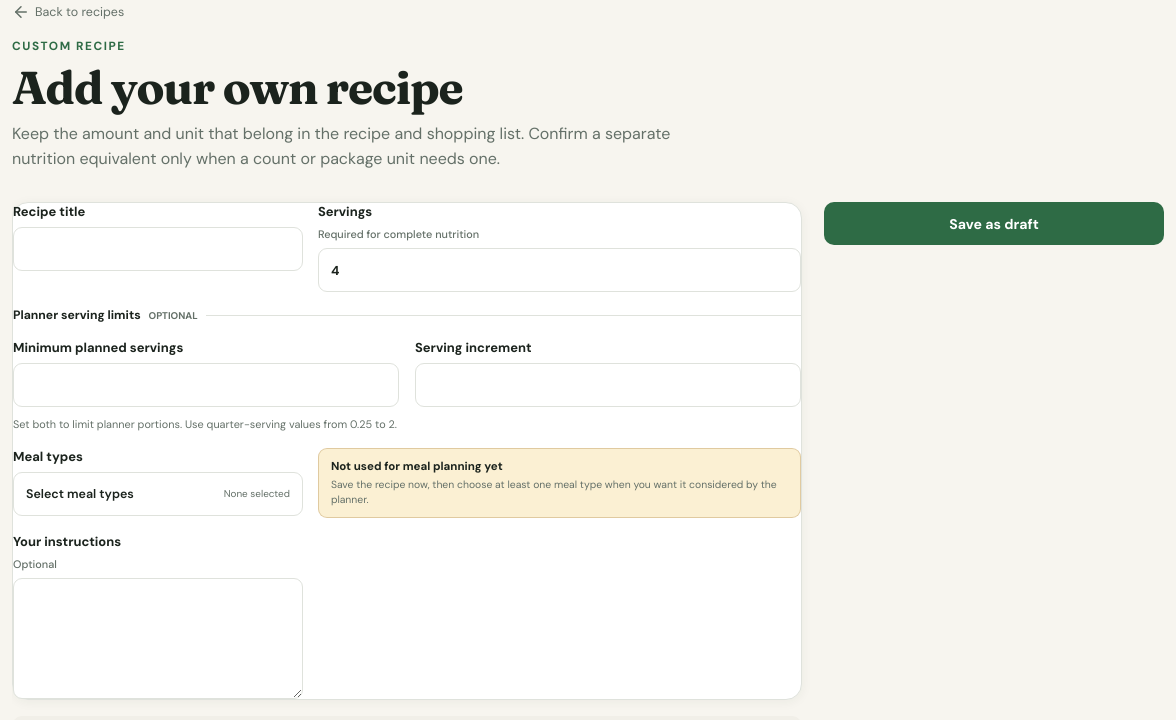
it: CustomRecipePage › saves an incomplete new recipe as a draft without pretending it is complete
The width and height of the screenshot is (1176, 720).
Type "Unfinished soup" into the field labelled "Recipe title" at {"x": 158, "y": 249}, box [13,227,303,271]
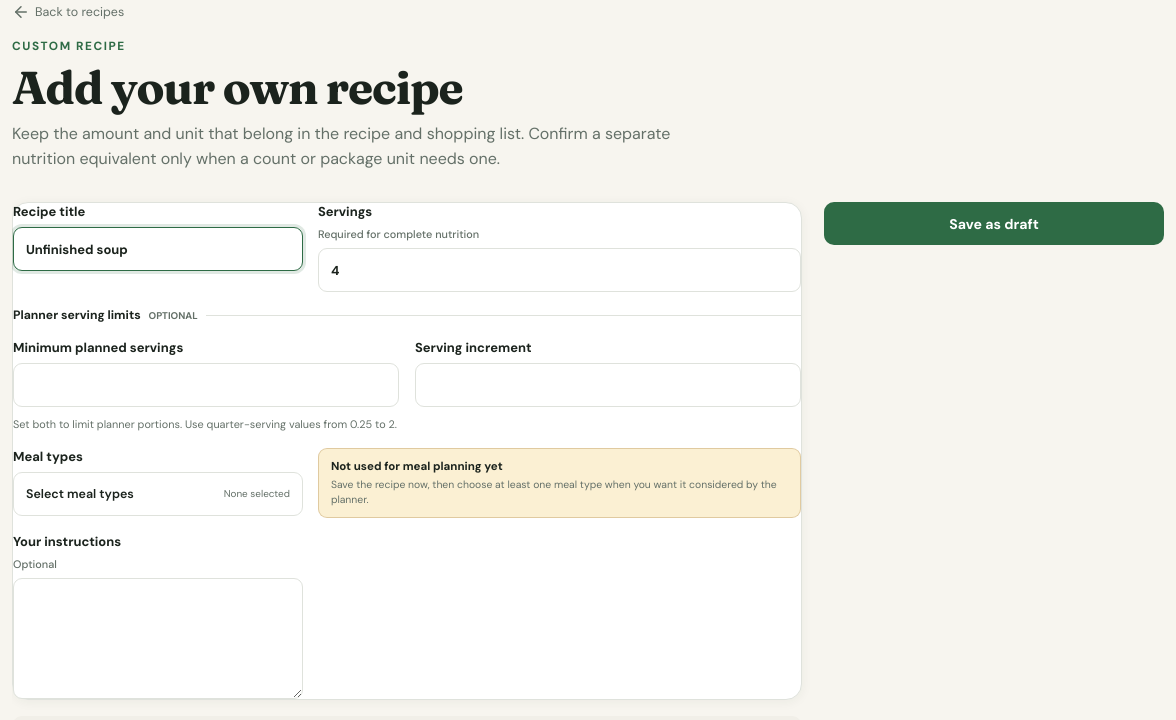
Click the button "Save as draft" at {"x": 994, "y": 224}, box [824,202,1164,245]
(page scrolled)
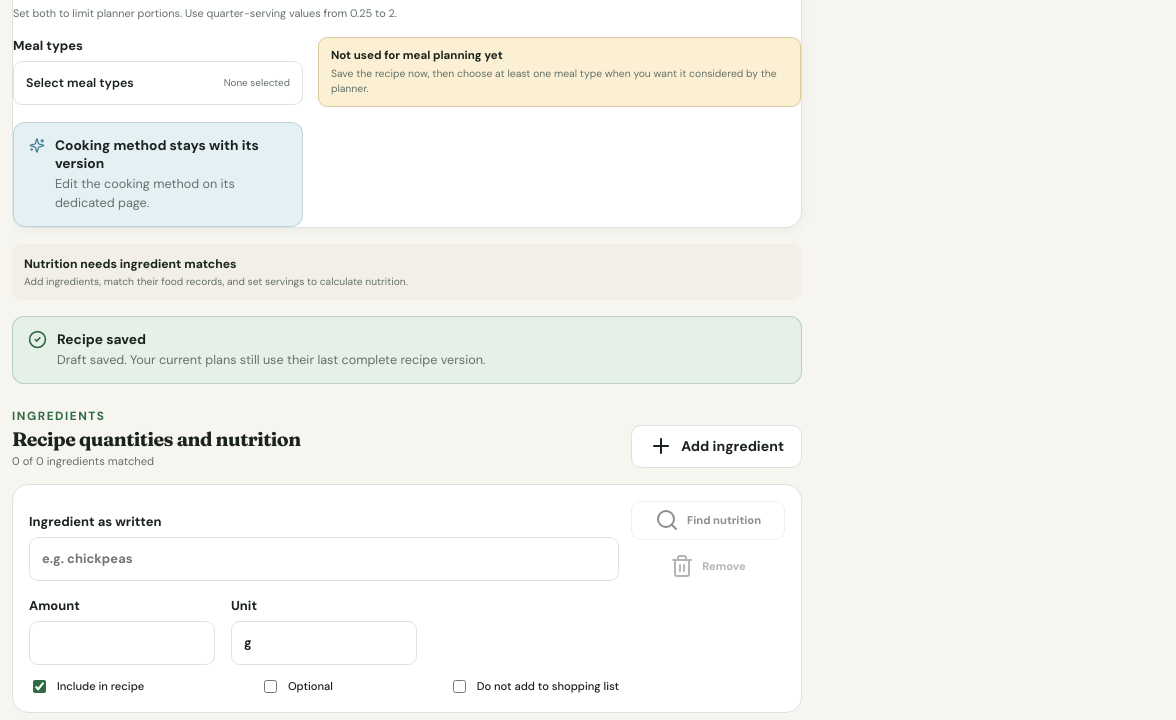
Check: the text "Draft saved" is shown, box [57,351,486,368]
